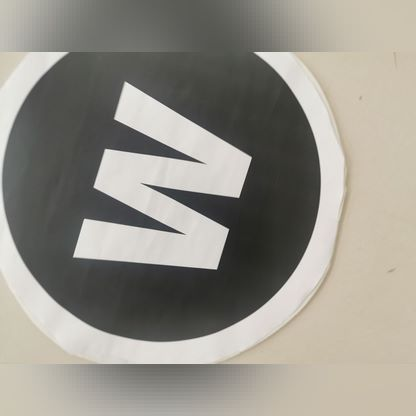W: (36, 59, 294, 298)
